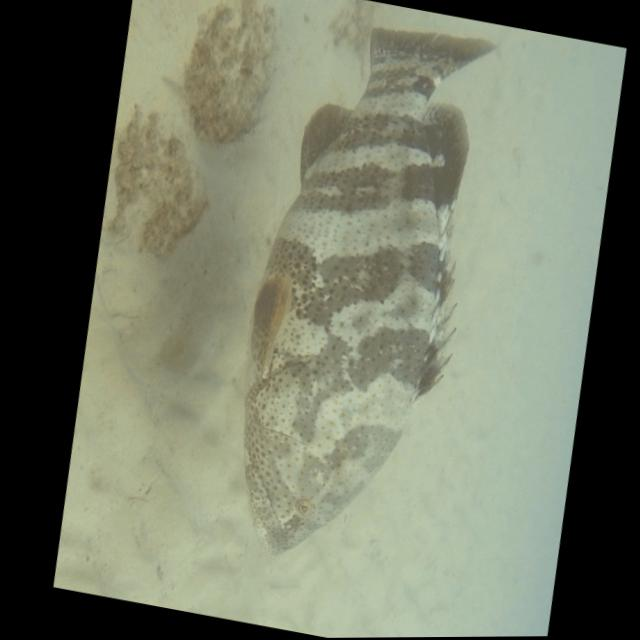Groupers: (189, 0, 532, 587)
